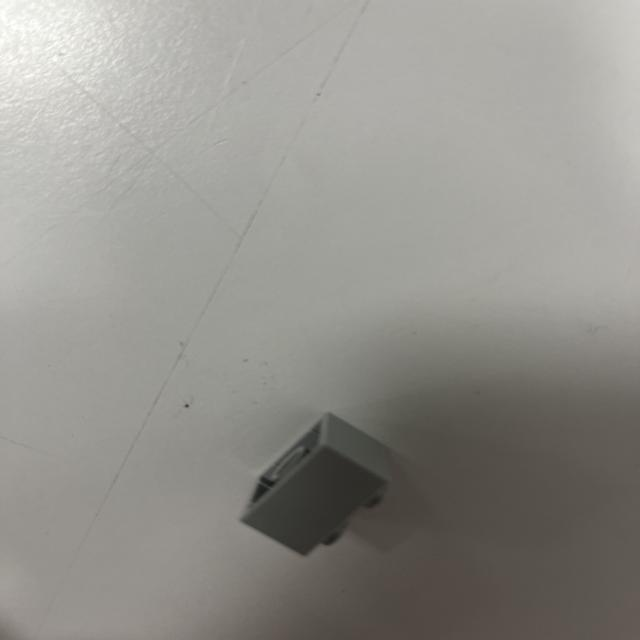C2x2x1: (239, 412, 401, 561)
